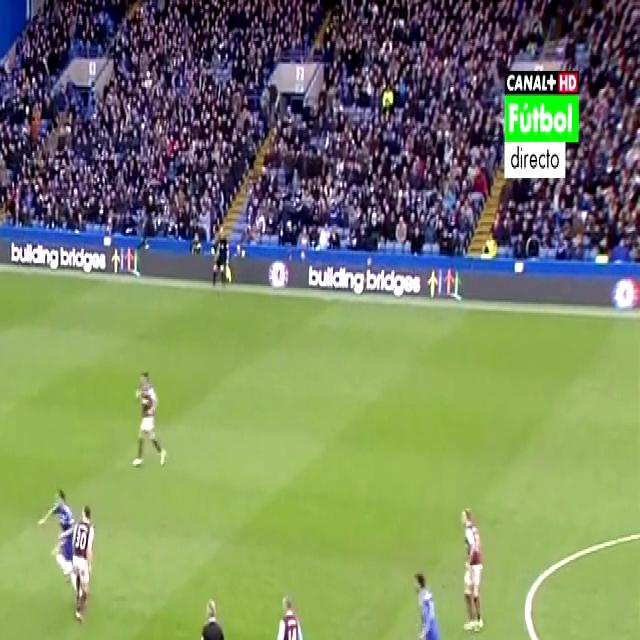referee: (191, 581, 231, 640), (211, 212, 236, 298)
soccer-player: (51, 487, 101, 630), (40, 479, 83, 622), (128, 356, 174, 478), (453, 496, 490, 640), (405, 556, 466, 640), (263, 576, 314, 640)
